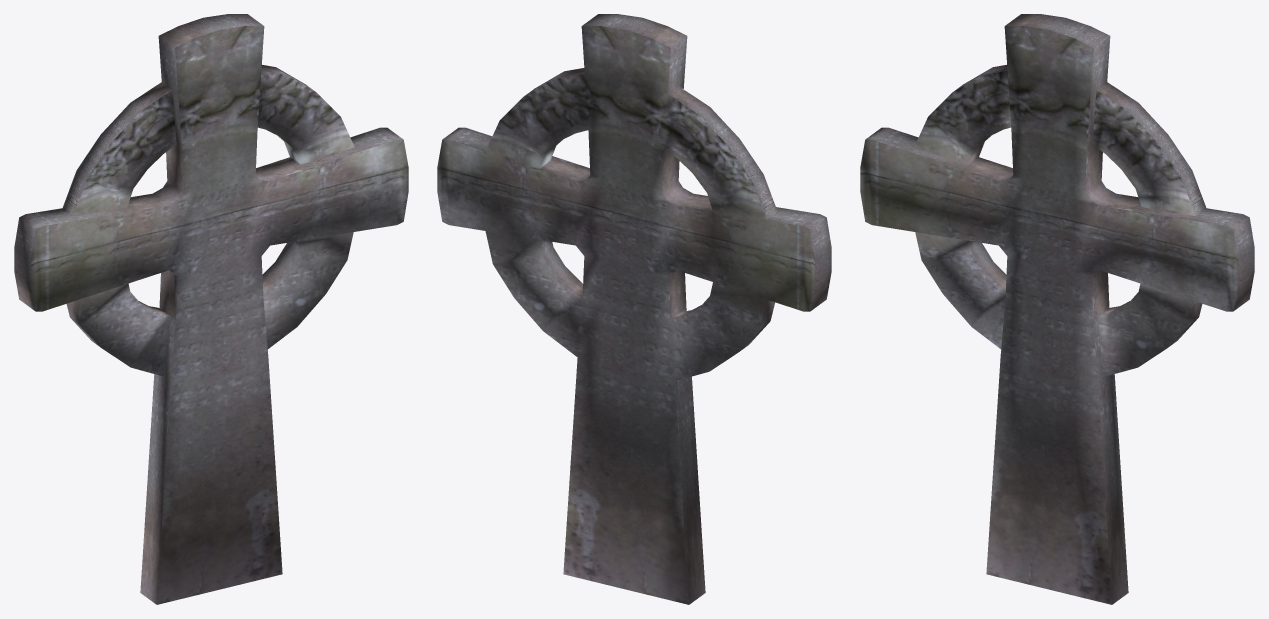
The model's file is gravestoneH.fbx.
3 views of the same model, side by side, from view 1: azimuth 30°, elevation 25°; view 2: azimuth 150°, elevation 25°; view 3: azimuth 330°, elevation 25° (orthographic).
Parts seen in each view (by area): view 1: U3DMesh; view 2: U3DMesh; view 3: U3DMesh.
Boxes of the visible parts, x1,y1,x2,y2 form: U3DMesh: (14, 14, 408, 604); U3DMesh: (437, 14, 831, 604); U3DMesh: (860, 14, 1254, 604).
Bounding box in the file's own units: 30.85 × 43.72 × 2.33.
